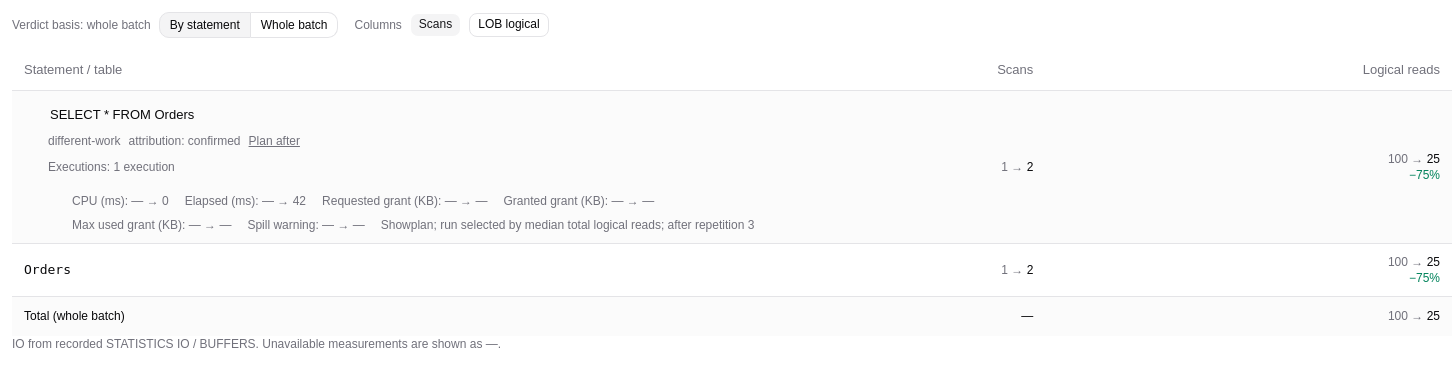
shows selected-run metrics and object LOB without replacing missing values
The image size is (1452, 365).
Check: the text "CPU (ms): — → 0" is shown, box [72,192,169,208]
Check: the text "Elapsed (ms): — → 42" is shown, box [185,192,306,208]
Click the button "LOB logical" at (509, 25), box [469,13,549,37]
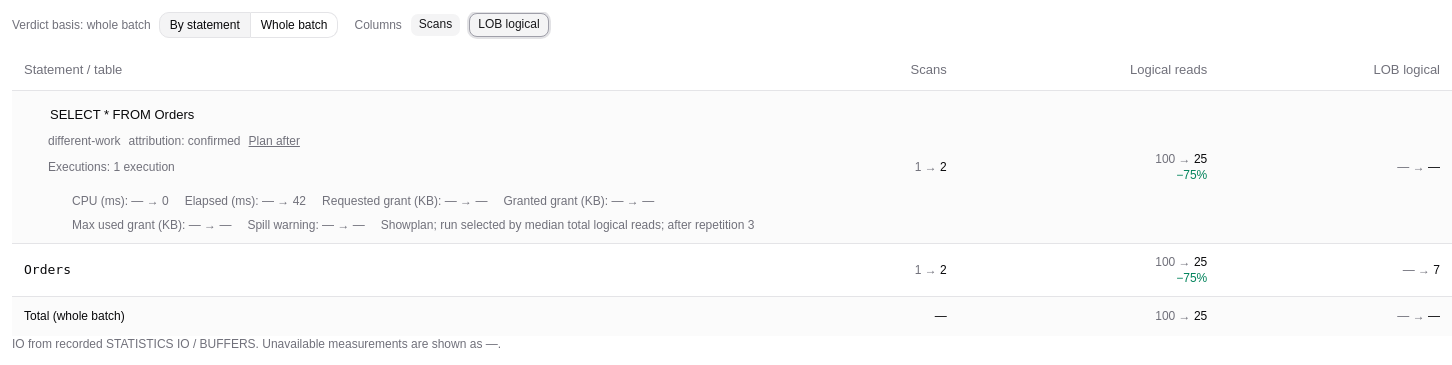
Check: the text "7" is shown, box [1433,262,1440,276]
